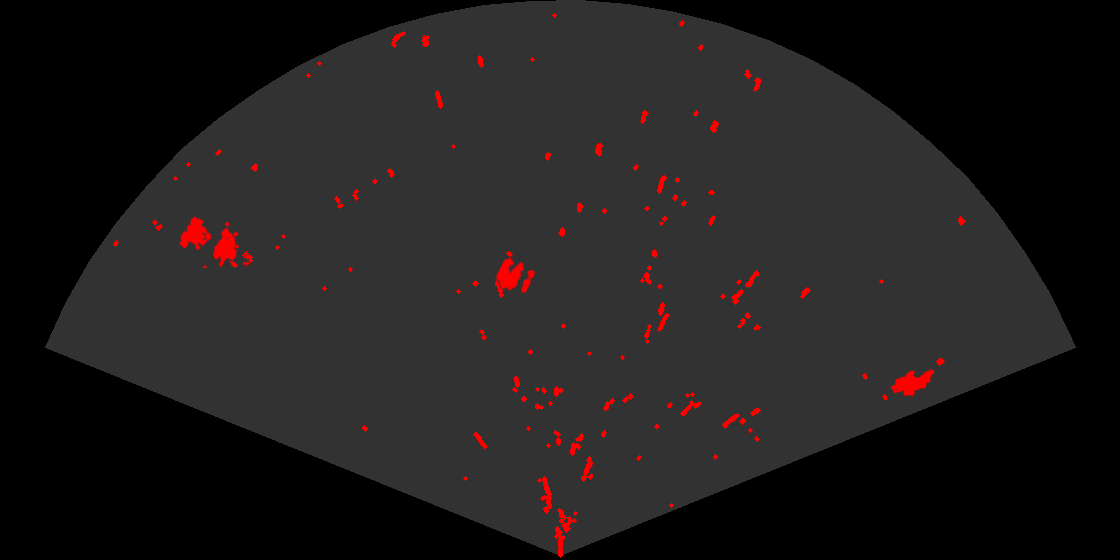AUV: (889, 368, 936, 398)
ball: (494, 256, 537, 295)
cage: (177, 215, 249, 268)
